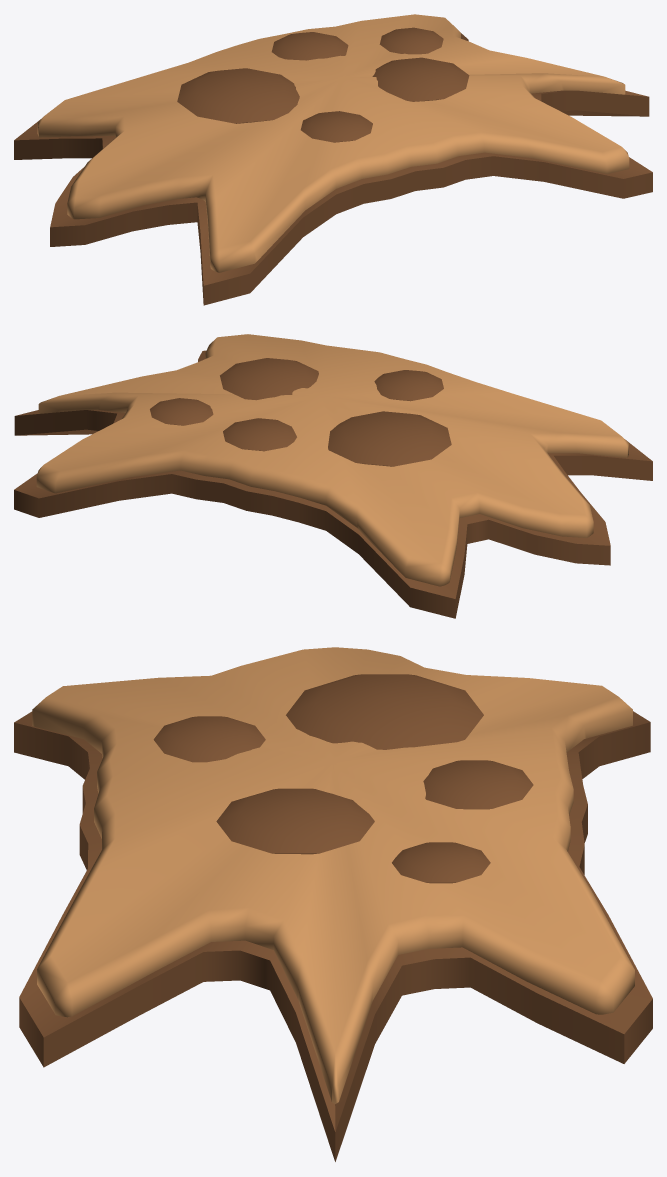
Rendered from resource-hide.glb.
The picture shows the model from 3 angles, top to bottom: view 1: azimuth 30°, elevation 25°; view 2: azimuth 150°, elevation 25°; view 3: azimuth 270°, elevation 25°; orthographic projection. The views are drawn at different scales.
Parts seen in each view (by area): view 1: ResourceHide_Pelt, ResourceHide_Spots; view 2: ResourceHide_Pelt, ResourceHide_Spots; view 3: ResourceHide_Pelt, ResourceHide_Spots.
Boxes of the visible parts, x1,y1,x2,y2 form: ResourceHide_Pelt: (37,14,629,272); ResourceHide_Spots: (14,27,652,305); ResourceHide_Pelt: (36,334,628,586); ResourceHide_Spots: (14,350,652,618); ResourceHide_Pelt: (32,647,634,1103); ResourceHide_Spots: (14,674,652,1161).
Size of the model in its own units: 3.17 by 0.5869 by 1.93.
